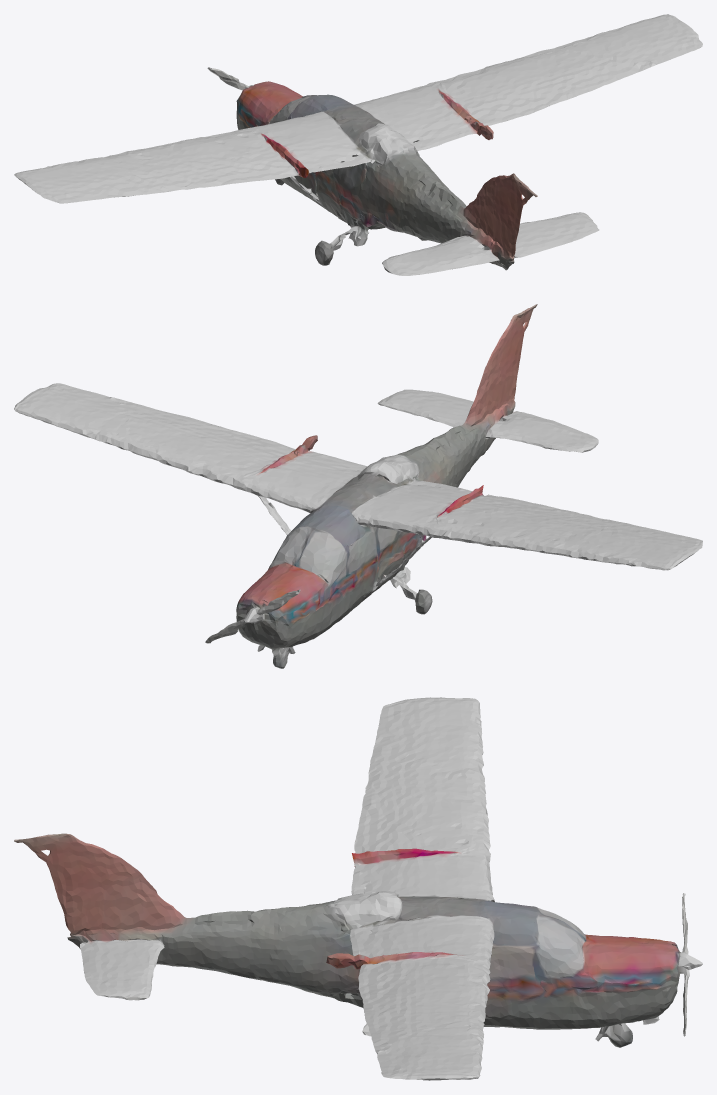
3 views of the same model, one above another, from view 1: azimuth 30°, elevation 25°; view 2: azimuth 150°, elevation 25°; view 3: azimuth 270°, elevation 25° (orthographic). The views are drawn at different scales.
Parts seen in each view (by area): view 1: defaultobject; view 2: defaultobject; view 3: defaultobject.
Part boxes in pixels (bbox=[...]): defaultobject: bbox=[14, 14, 702, 275]; defaultobject: bbox=[14, 304, 702, 668]; defaultobject: bbox=[14, 697, 702, 1080].
Size of the model in its own units: 0.9525 by 0.2508 by 0.7273.
